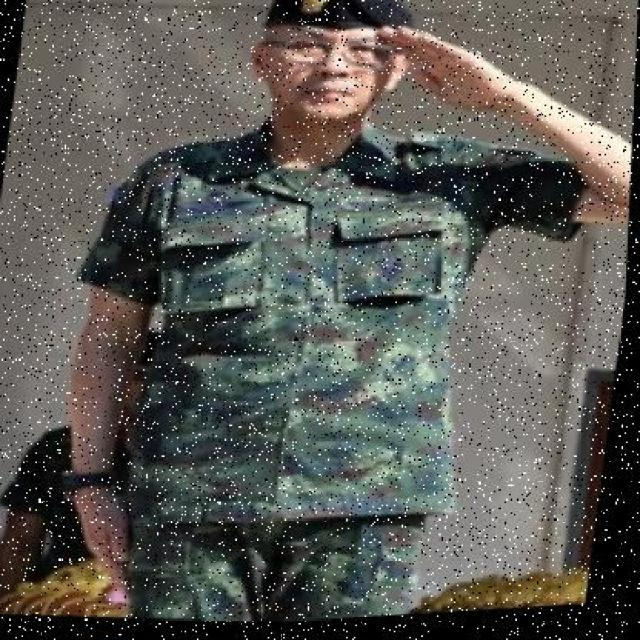MIL_Pax: (96, 0, 542, 634)
